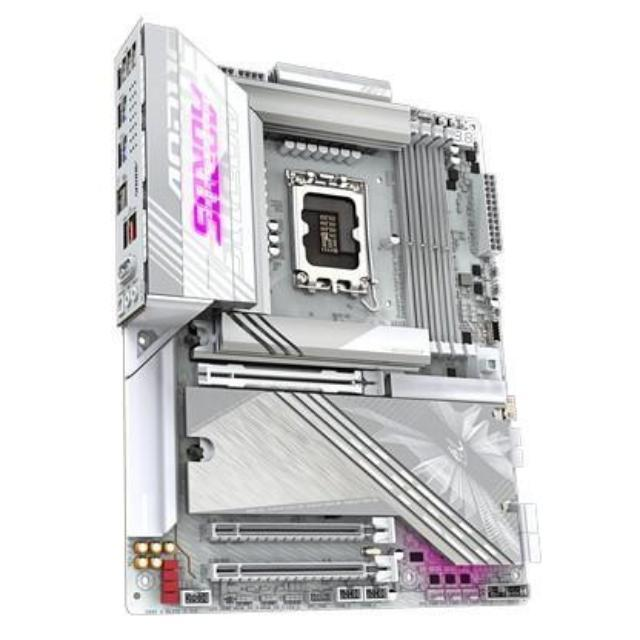Mainboard: (99, 12, 541, 626)
